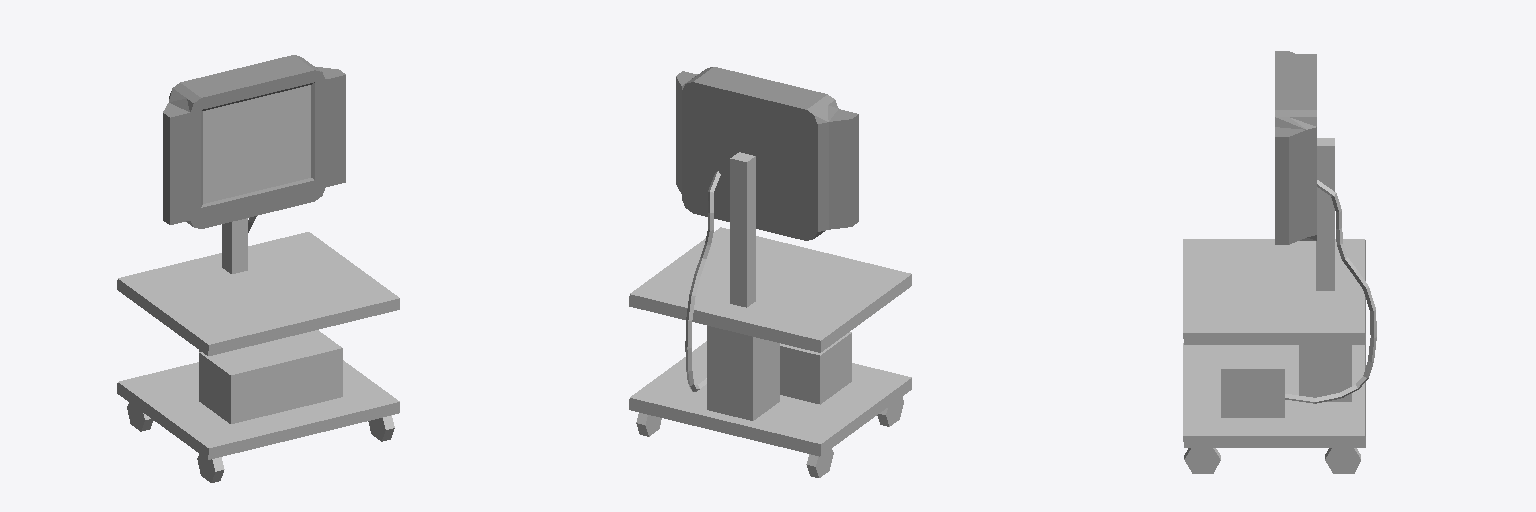
Rendered from mesh_monitor_screen.obj.
3 renders of one model, left to right at view 1: azimuth 30°, elevation 25°; view 2: azimuth 150°, elevation 25°; view 3: azimuth 270°, elevation 25°, orthographic.
Parts seen in each view (by area): view 1: Cube.002, Cube, Plane, Cube.004_Cube.007, Cylinder.001; view 2: Cube.002, Cube, Cube.004_Cube.007, NurbsPath; view 3: Cube.002, Cube, Cube.004_Cube.007, NurbsPath, Cylinder, Cylinder.003.
Part boxes in pixels (x1,y1,x2,y2): Cube.002: (117, 218, 399, 459); Cube: (163, 55, 345, 228); Plane: (203, 85, 310, 203); Cube.004_Cube.007: (199, 330, 342, 423); Cylinder.001: (197, 454, 224, 482); Cube.002: (629, 152, 911, 456); Cube: (676, 67, 858, 240); Cube.004_Cube.007: (780, 332, 851, 404); NurbsPath: (685, 171, 720, 391); Cube.002: (1183, 138, 1365, 447); Cube: (1275, 51, 1316, 244); Cube.004_Cube.007: (1221, 345, 1284, 417); NurbsPath: (1285, 180, 1376, 403); Cylinder: (1184, 448, 1220, 473); Cylinder.003: (1325, 448, 1360, 473).
Size of the model in its own units: 2.73 by 4.73 by 2.39.